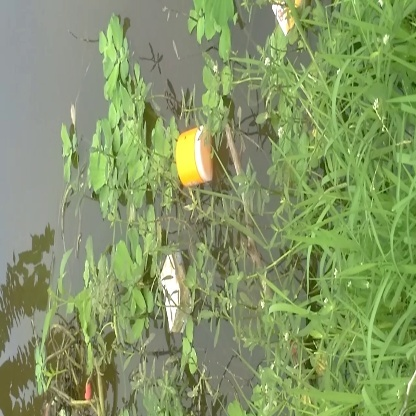bottle: (174, 122, 228, 197)
milk-box: (150, 242, 198, 335)
